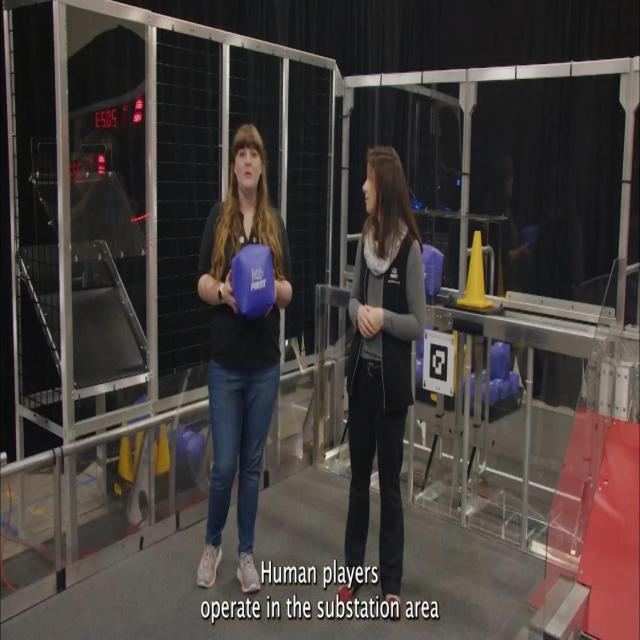frc_cone: (456, 228, 492, 308), (111, 416, 137, 492), (156, 422, 170, 478), (133, 431, 143, 460)
frc_cube: (231, 244, 276, 318), (417, 243, 444, 296), (173, 431, 206, 456), (490, 343, 510, 377), (493, 378, 512, 400), (482, 382, 498, 404), (508, 372, 520, 393), (416, 357, 424, 384), (416, 337, 424, 357)
